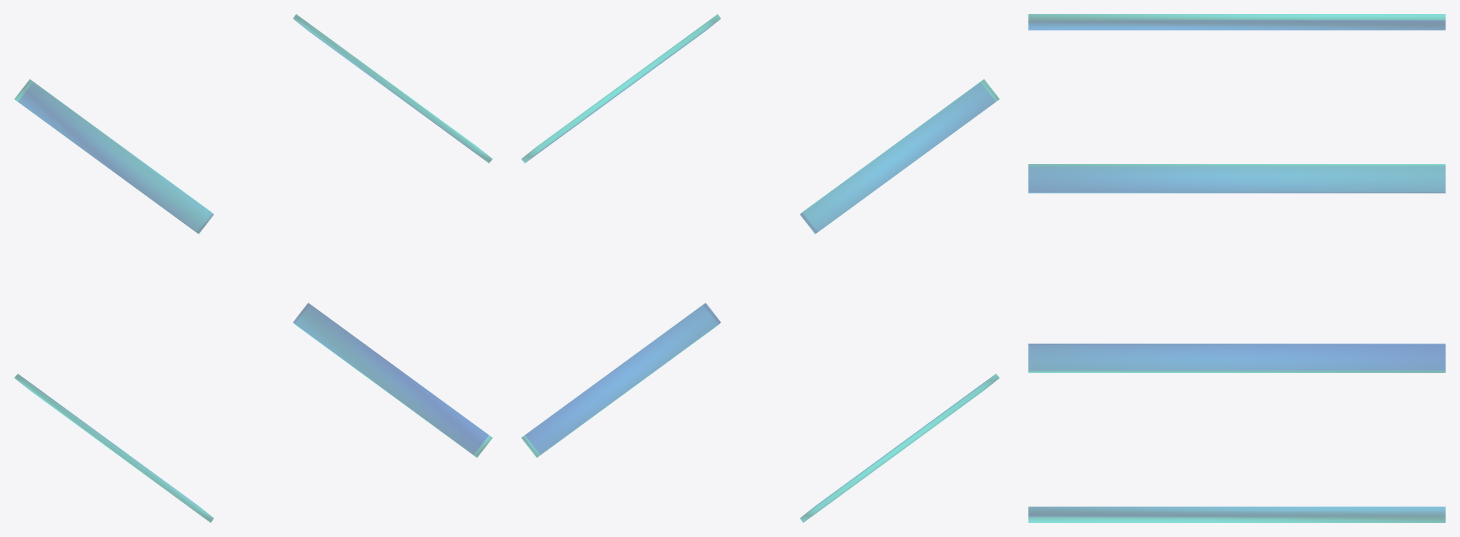
Rendered from Beam.fbx.
3 renders of one model, left to right at view 1: azimuth 30°, elevation 25°; view 2: azimuth 150°, elevation 25°; view 3: azimuth 270°, elevation 25°, orthographic. The views are drawn at different scales.
Visible parts, largest first — view 1: Cube; view 2: Cube; view 3: Cube.
Part boxes in pixels (x1=…): Cube: x1=14, y1=14, x2=492, y2=522; Cube: x1=521, y1=14, x2=999, y2=522; Cube: x1=1028, y1=14, x2=1445, y2=522.
Bounding box in the file's own units: 0.95 × 0.95 × 1.
